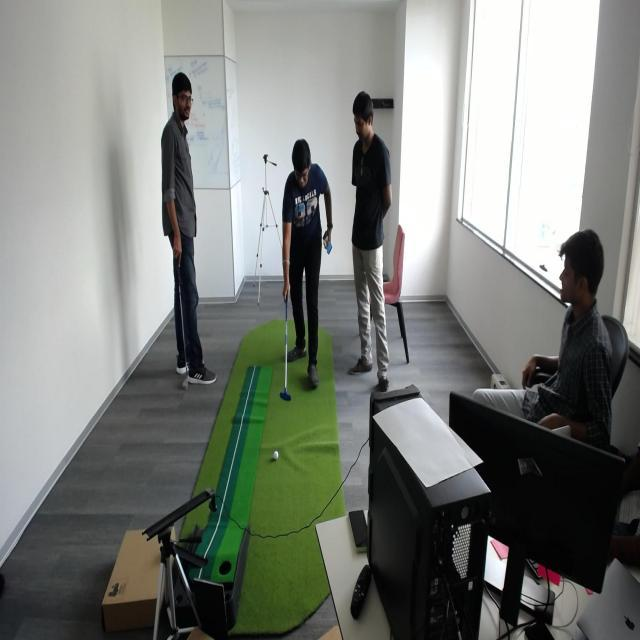ClubHead: (182, 366, 192, 389)
GolfBall: (274, 449, 280, 462)
